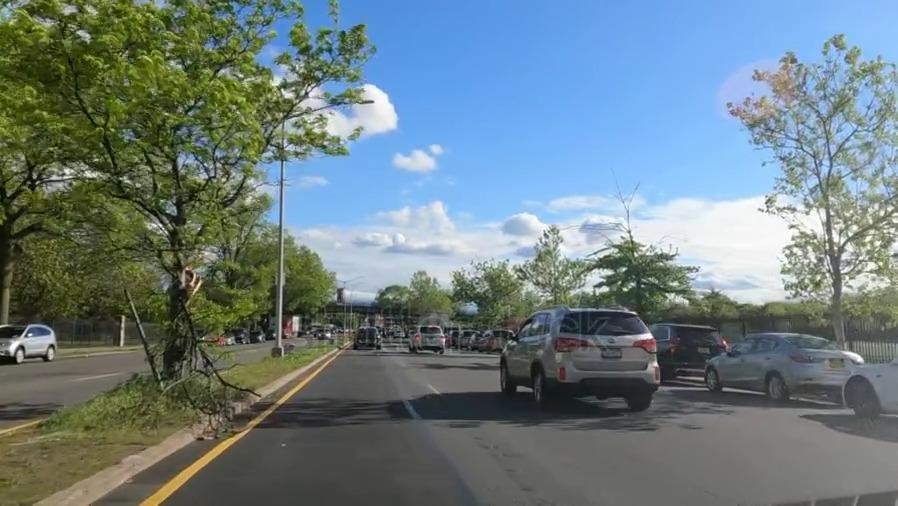car: (505, 314, 660, 399), (717, 327, 842, 399), (645, 312, 717, 385), (851, 339, 898, 420), (3, 321, 61, 361), (353, 325, 383, 352), (413, 327, 444, 352), (484, 331, 505, 351), (469, 330, 482, 351), (458, 327, 470, 347), (446, 326, 457, 347)
